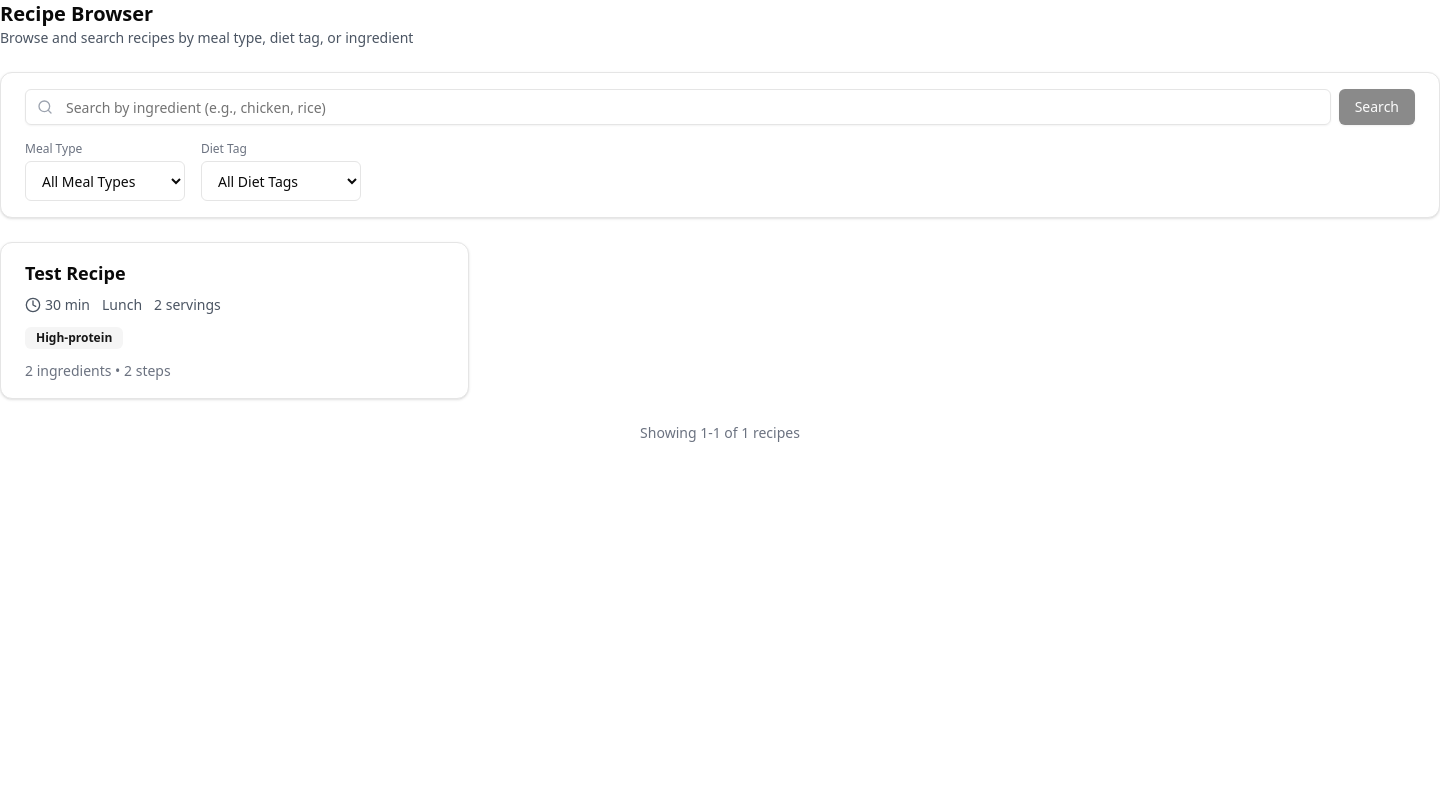
Test case: RecipeBrowser › recipe detail dialog › should open recipe detail dialog when recipe is clicked
The width and height of the screenshot is (1440, 810).
Expected: the heading "Test Recipe" is shown, [25,261,126,285]
Click the button with aria-label "view test recipe details": point(75, 273) [25,259,444,381]
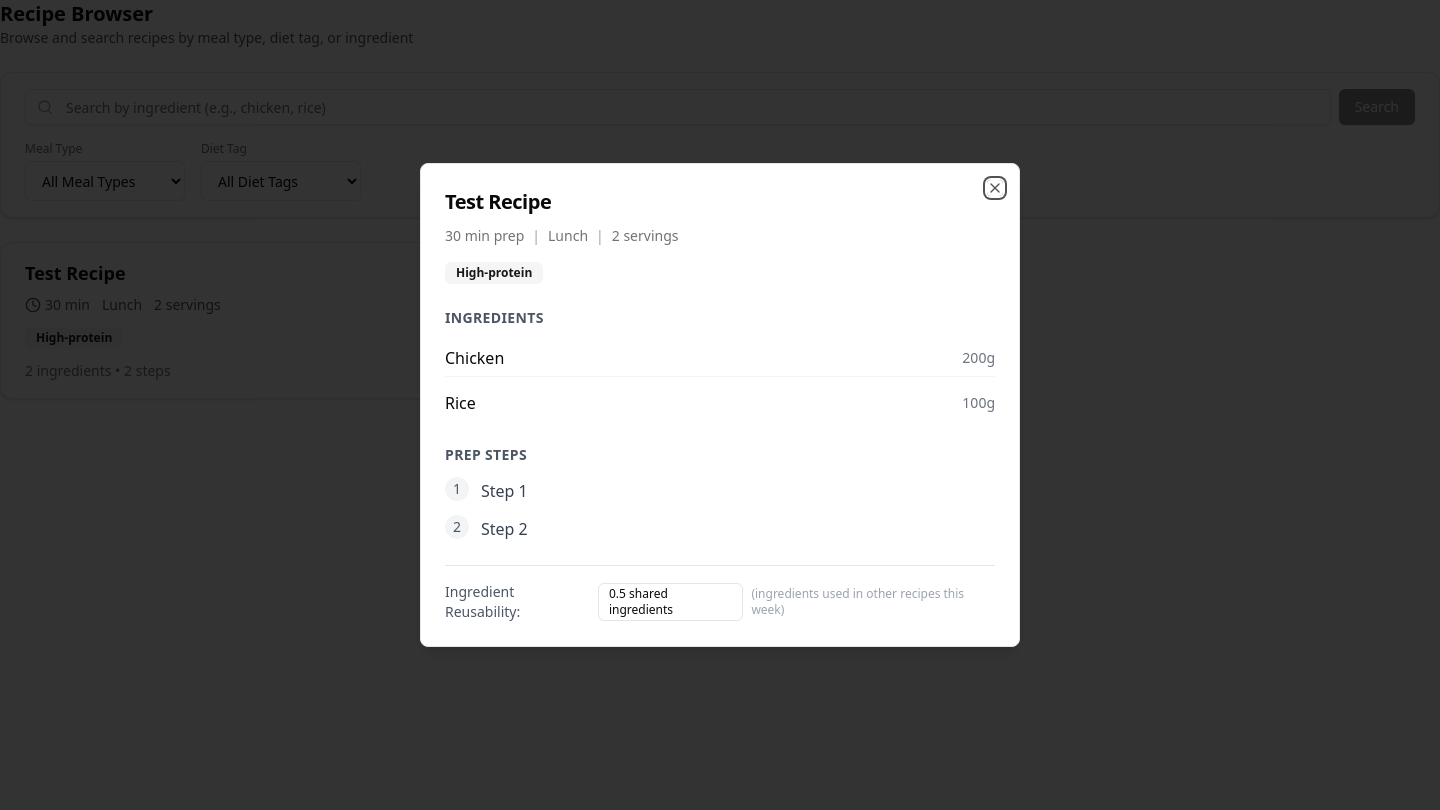
Expected: the dialog is shown, [420,163,1020,647]
